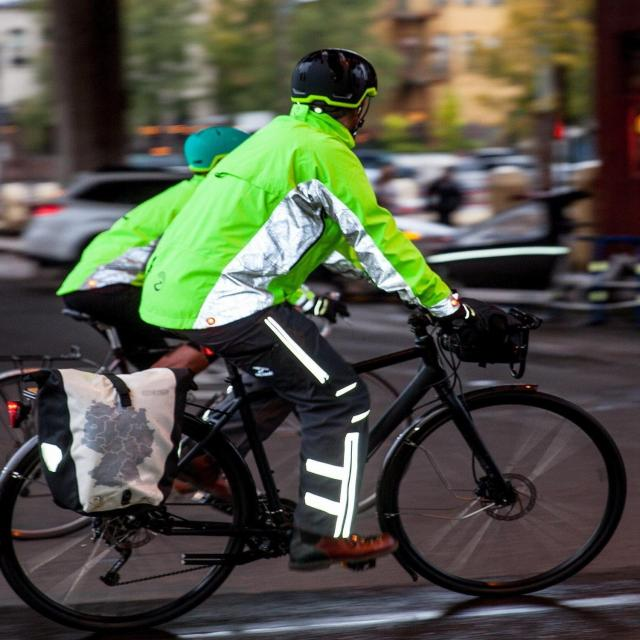Reflective-Jacket: (143, 127, 474, 338), (50, 175, 213, 303)
Safety-Helmet: (278, 45, 382, 109), (178, 124, 255, 173)
